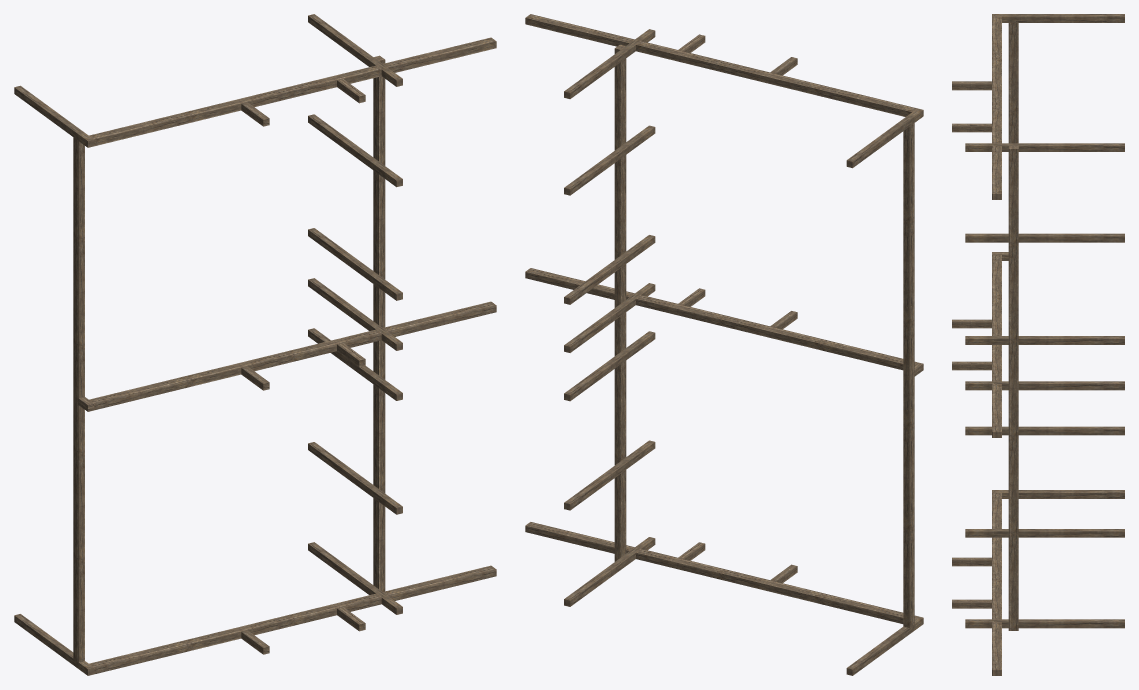
File: tdr_h_shack_inside.obj
3 renders of one model, left to right at view 1: azimuth 30°, elevation 25°; view 2: azimuth 150°, elevation 25°; view 3: azimuth 270°, elevation 25°, orthographic. The views are drawn at different scales.
Visible parts, largest first — view 1: Cube.004_Cube.061; view 2: Cube.004_Cube.061; view 3: Cube.004_Cube.061.
Part boxes in pixels (bbox=[...]): Cube.004_Cube.061: bbox=[14, 14, 496, 675]; Cube.004_Cube.061: bbox=[525, 14, 923, 675]; Cube.004_Cube.061: bbox=[952, 14, 1124, 675].
Bounding box in the file's own units: 4096 × 5120 × 1664.
1 material, 1 textured.
